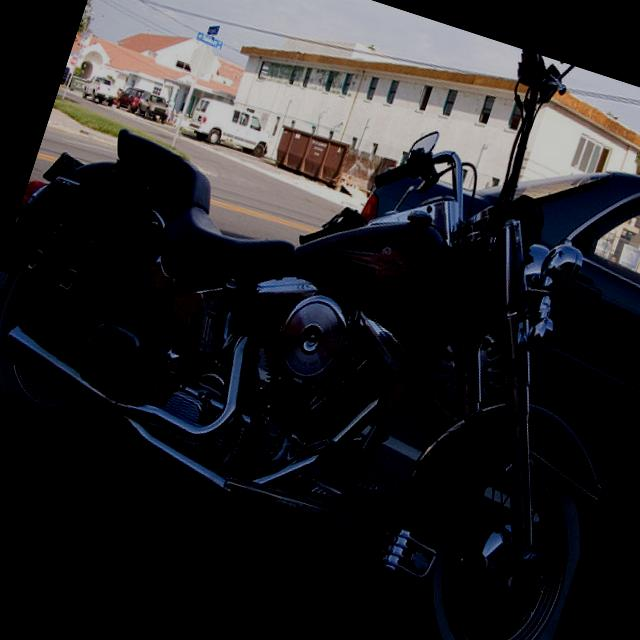Vehicle: (0, 0, 640, 640), (305, 93, 640, 484), (185, 94, 281, 162), (132, 88, 178, 127), (81, 72, 123, 109), (115, 84, 144, 117), (61, 65, 69, 83)
